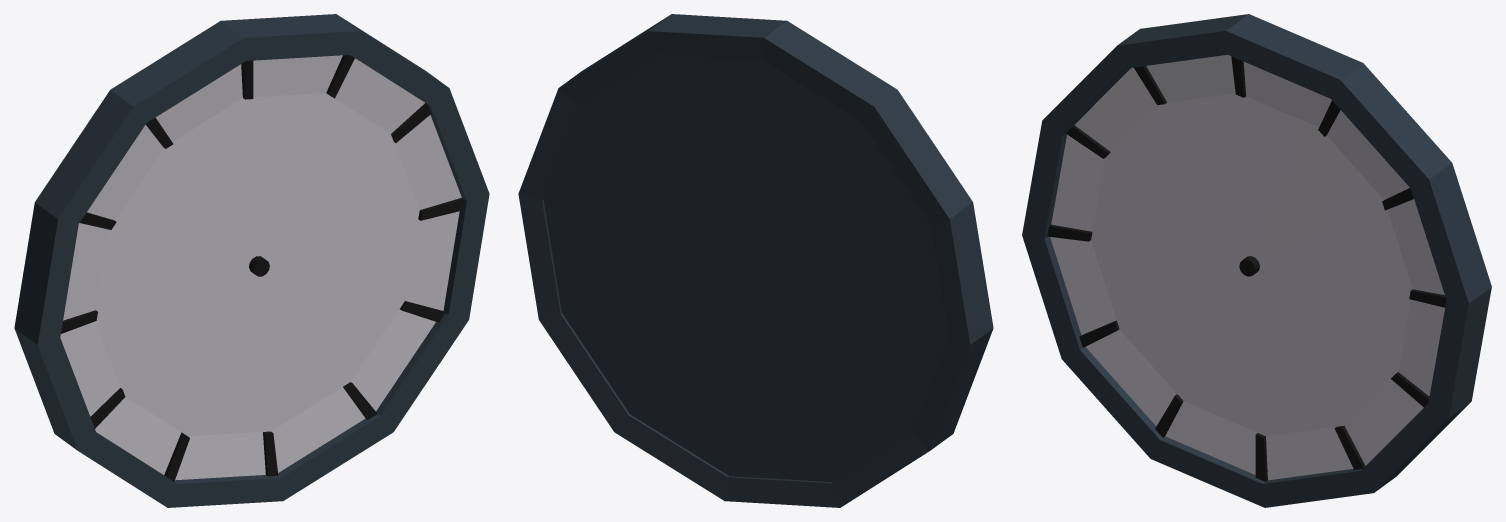
Rendered from scene_clock.fbx.
The picture shows the model from 3 angles, left to right: view 1: azimuth 30°, elevation 25°; view 2: azimuth 150°, elevation 25°; view 3: azimuth 330°, elevation 25°; orthographic projection.
Visible parts, largest first — view 1: Clock; view 2: Clock; view 3: Clock.
Boxes of the visible parts, x1,y1,x2,y2 form: Clock: (14,14,489,507); Clock: (518,14,993,507); Clock: (1022,14,1491,507).
Size of the model in its own units: 63.85 by 63.85 by 5.71.
